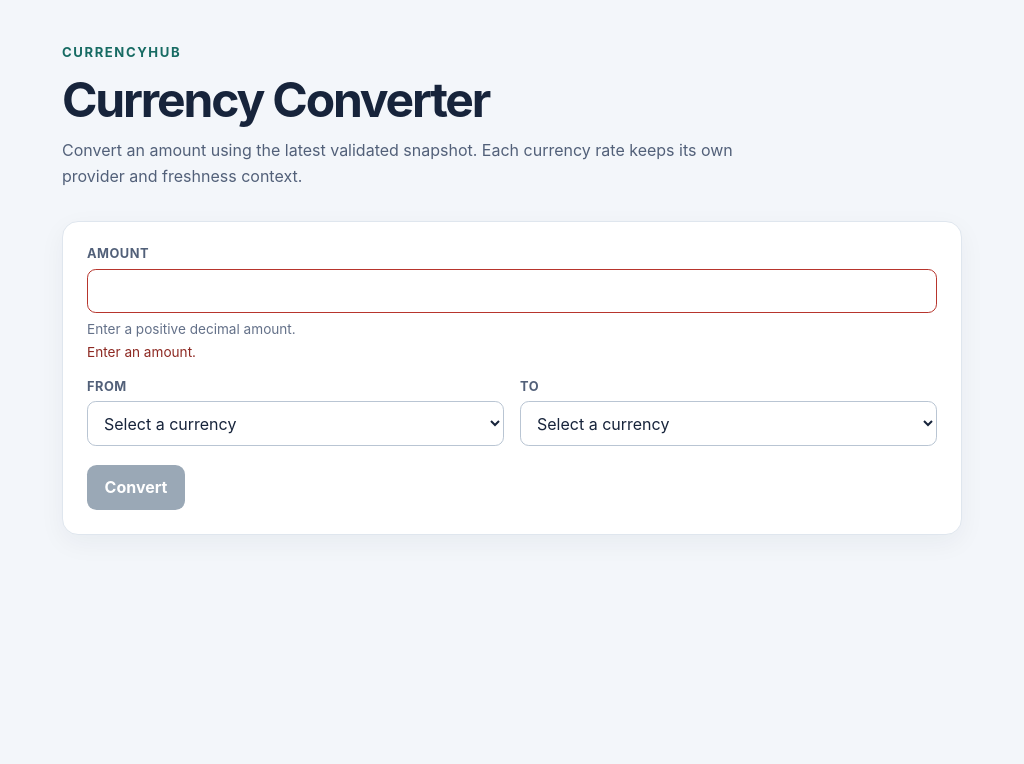
Test: ConverterComponent › allows same-currency conversion and preserves the exact amount and both rate contexts
Step 1. Type "123.4500" into the field with id "amount" → x=512, y=291, box [87,269,937,313]
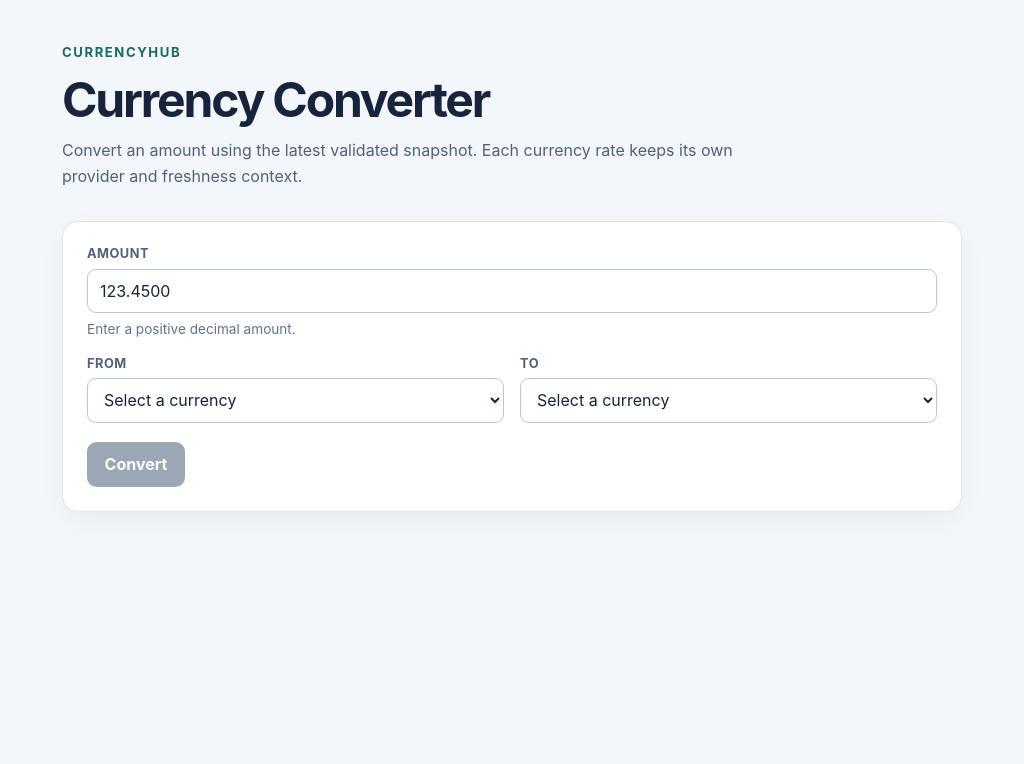
Step 2. Select "EUR — Euro" in the dropdown with id "source-currency" → x=296, y=400, box [87,378,504,423]
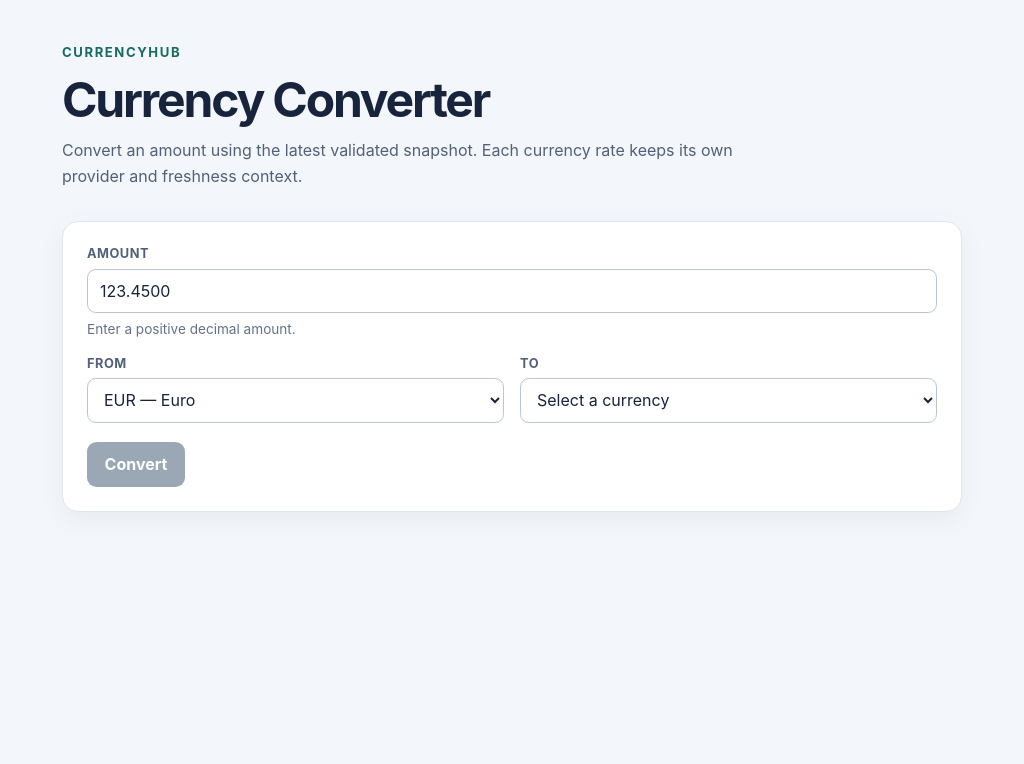
Step 3. Select "EUR — Euro" in the dropdown with id "target-currency" → x=728, y=400, box [520,378,937,423]
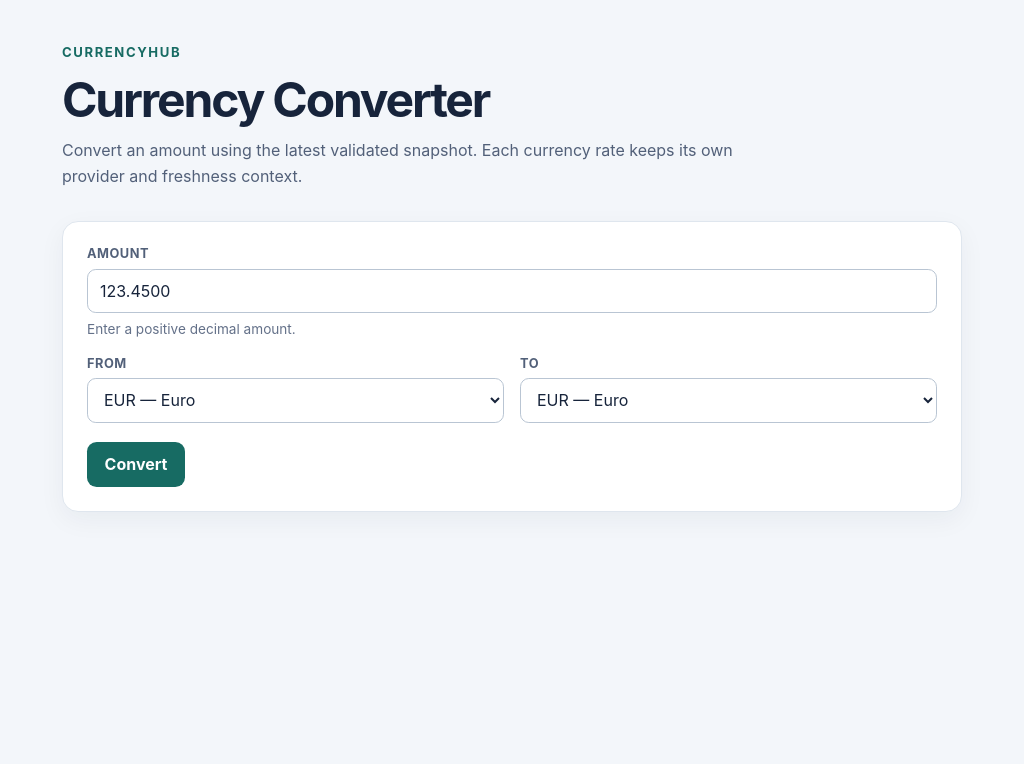
Step 4. Click the submit button → x=136, y=464, box [87,442,185,487]
(page scrolled)
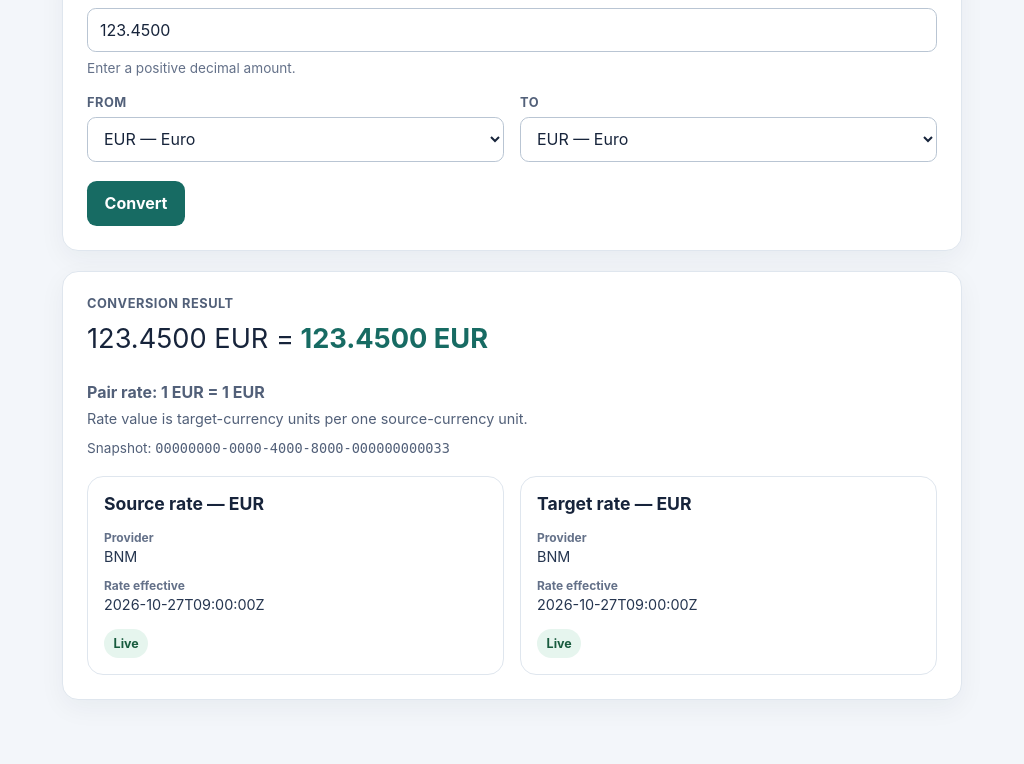
Result: the element with class "result-panel" shows "123.4500" at [87,322,276,355]
Result: the element with class "result-panel" shows "Pair rate: 1 EUR = 1 EUR" at [87,382,265,402]
